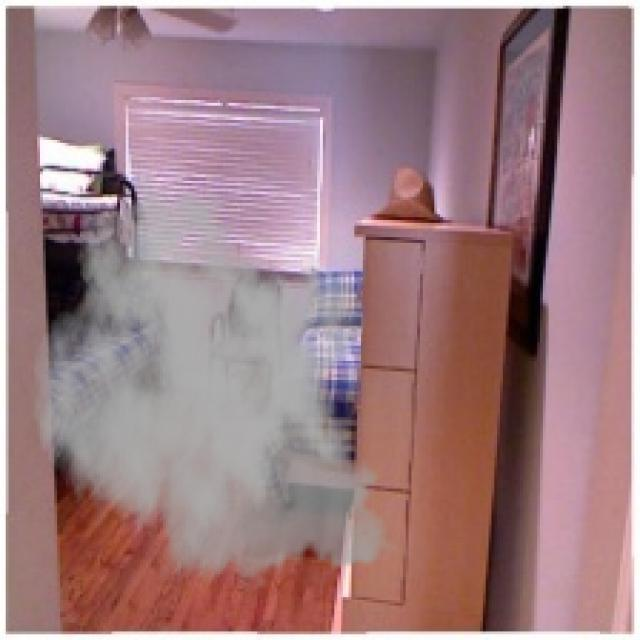Smoke: (31, 172, 403, 594)
